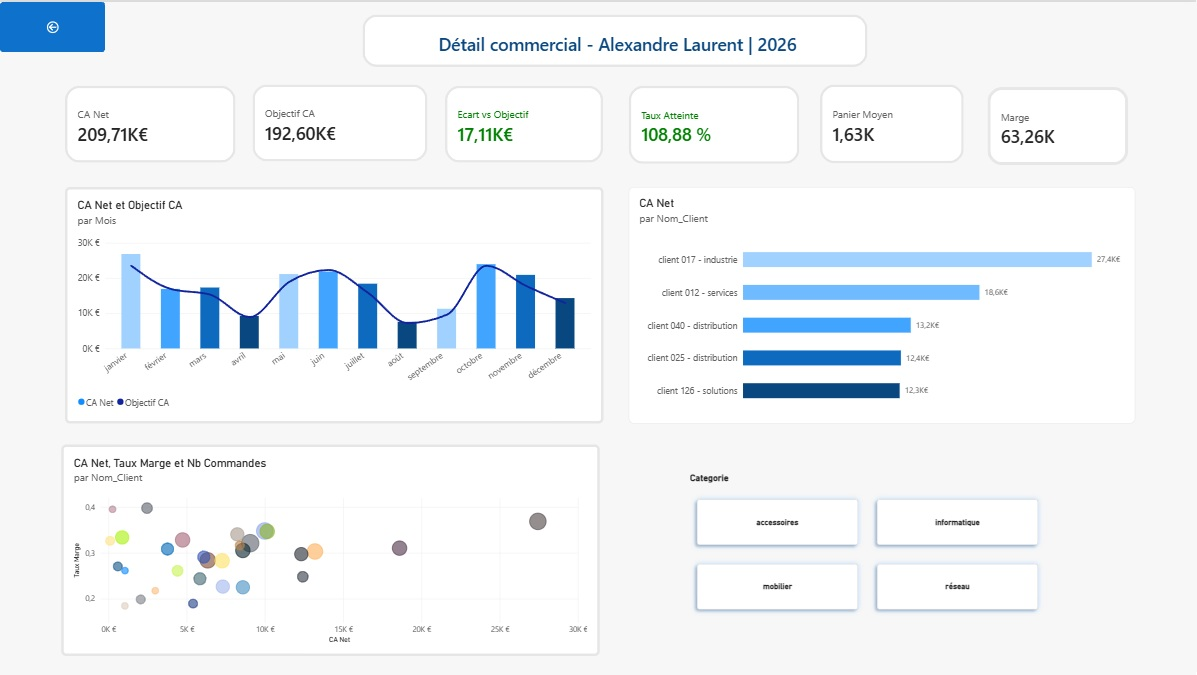

This screenshot's page, from the dashboard's own definition file:
{"tool":"powerbi","page":{"name":"Détail Commercial","canvas":[1920,1080],"ordinal":2},"visuals":[{"type":"actionButton","box":[0,0,168,80],"z":0},{"type":"cardVisual","fields":{"Data":["Mesures.CA Net"]},"box":[103.7,134.6,273.3,123.3],"z":2},{"type":"cardVisual","fields":{"Data":["Mesures.Objectif CA"]},"box":[404.4,132.2,280,123.3],"z":3},{"type":"cardVisual","fields":{"Data":["Mesures.Taux Atteinte"]},"box":[1007,134.6,273.3,125],"z":4},{"type":"cardVisual","fields":{"Data":["Mesures.Ecart Objectif"]},"box":[712,134.6,253.3,123.3],"z":5},{"type":"cardVisual","fields":{"Data":["Mesures.Marge"]},"box":[1580,135,225,125],"z":6},{"type":"cardVisual","fields":{"Data":["Mesures.Panier Moyen"]},"box":[1312.5,132.5,230,126],"z":7},{"type":"lineClusteredColumnComboChart","fields":{"Category":["DimDate.Mois"],"Y":["Mesures.CA Net"],"Y2":["Mesures.Objectif CA"]},"box":[103.7,296.3,861.7,378.3],"z":8},{"type":"clusteredBarChart","fields":{"Category":["DimClients.Nom_Client"],"Y":["Mesures.CA Net"]},"box":[1007,296.3,810,378.3],"z":9},{"type":"cardVisual","fields":{"Data":["Mesures.03 Titre Detail Commercial"]},"box":[580.9,19.1,808.3,84.1],"z":10},{"type":"scatterChart","fields":{"Category":["DimClients.Nom_Client"],"Size":["Mesures.Nb Commandes"],"X":["Mesures.CA Net"],"Y":["Mesures.Taux Marge"]},"box":[98.9,708.1,861.7,338.3],"z":11},{"type":"advancedSlicerVisual","fields":{"Values":["DimProduit.Categorie"]},"box":[1104,752,568,232],"z":12}]}

Visuals, with their boxes in screenshot pixels (x1, y1, x2, y2), scaled from the page's 1920x1080 canvas onto the 1197x675 screenshot:
actionButton: (x1=0, y1=0, x2=105, y2=50)
cardVisual - Mesures.CA Net: (x1=65, y1=84, x2=235, y2=161)
cardVisual - Mesures.Objectif CA: (x1=252, y1=83, x2=427, y2=160)
cardVisual - Mesures.Taux Atteinte: (x1=628, y1=84, x2=798, y2=162)
cardVisual - Mesures.Ecart Objectif: (x1=444, y1=84, x2=602, y2=161)
cardVisual - Mesures.Marge: (x1=985, y1=84, x2=1125, y2=162)
cardVisual - Mesures.Panier Moyen: (x1=818, y1=83, x2=962, y2=162)
lineClusteredColumnComboChart - DimDate.Mois x Mesures.CA Net: (x1=65, y1=185, x2=602, y2=422)
clusteredBarChart - DimClients.Nom_Client x Mesures.CA Net: (x1=628, y1=185, x2=1133, y2=422)
cardVisual - Mesures.03 Titre Detail Commercial: (x1=362, y1=12, x2=866, y2=64)
scatterChart - DimClients.Nom_Client x Mesures.Nb Commandes: (x1=62, y1=443, x2=599, y2=654)
advancedSlicerVisual - DimProduit.Categorie: (x1=688, y1=470, x2=1042, y2=615)
